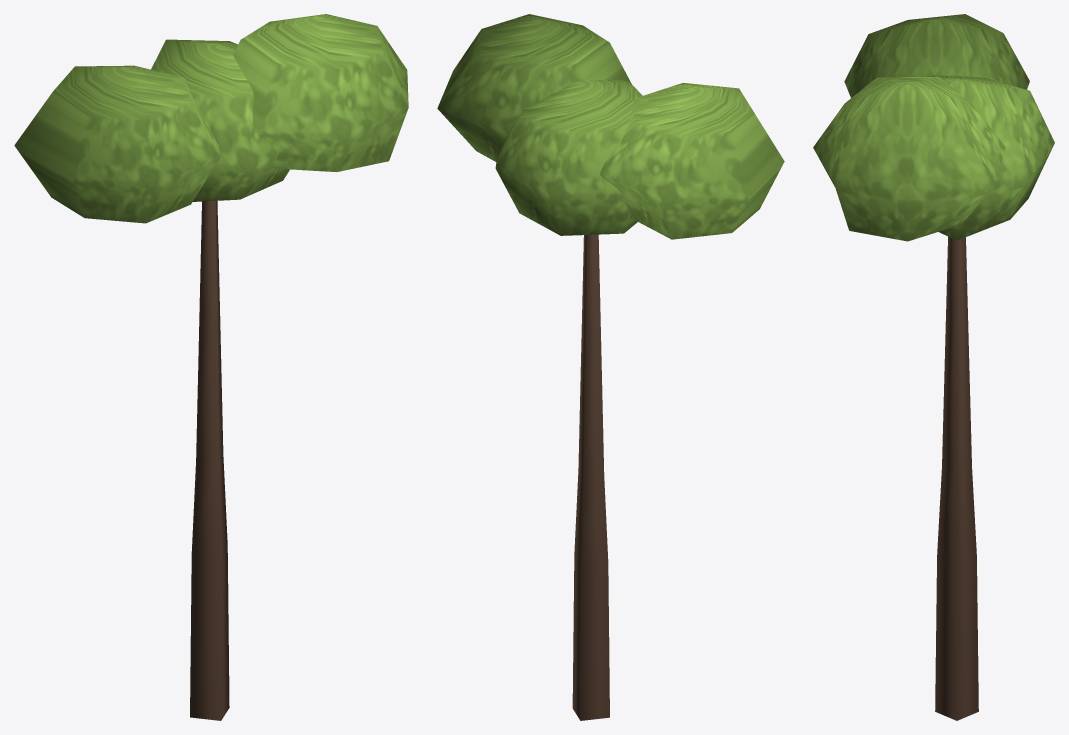
The model's file is forest-tree-sapling.glb.
3 renders of one model, left to right at view 1: azimuth 30°, elevation 25°; view 2: azimuth 150°, elevation 25°; view 3: azimuth 270°, elevation 25°, orthographic. The views are drawn at different scales.
Parts seen in each view (by area): view 1: Crown, Trunk; view 2: Crown, Trunk; view 3: Crown, Trunk.
Boxes of the visible parts, bbox=[...] form: Crown: bbox=[14, 14, 408, 223]; Trunk: bbox=[190, 201, 229, 720]; Crown: bbox=[437, 14, 784, 239]; Trunk: bbox=[572, 234, 609, 720]; Crown: bbox=[813, 14, 1054, 241]; Trunk: bbox=[935, 236, 978, 720].
Size of the model in its own units: 1.82 by 3.41 by 1.12.
2 materials, 1 textured.
